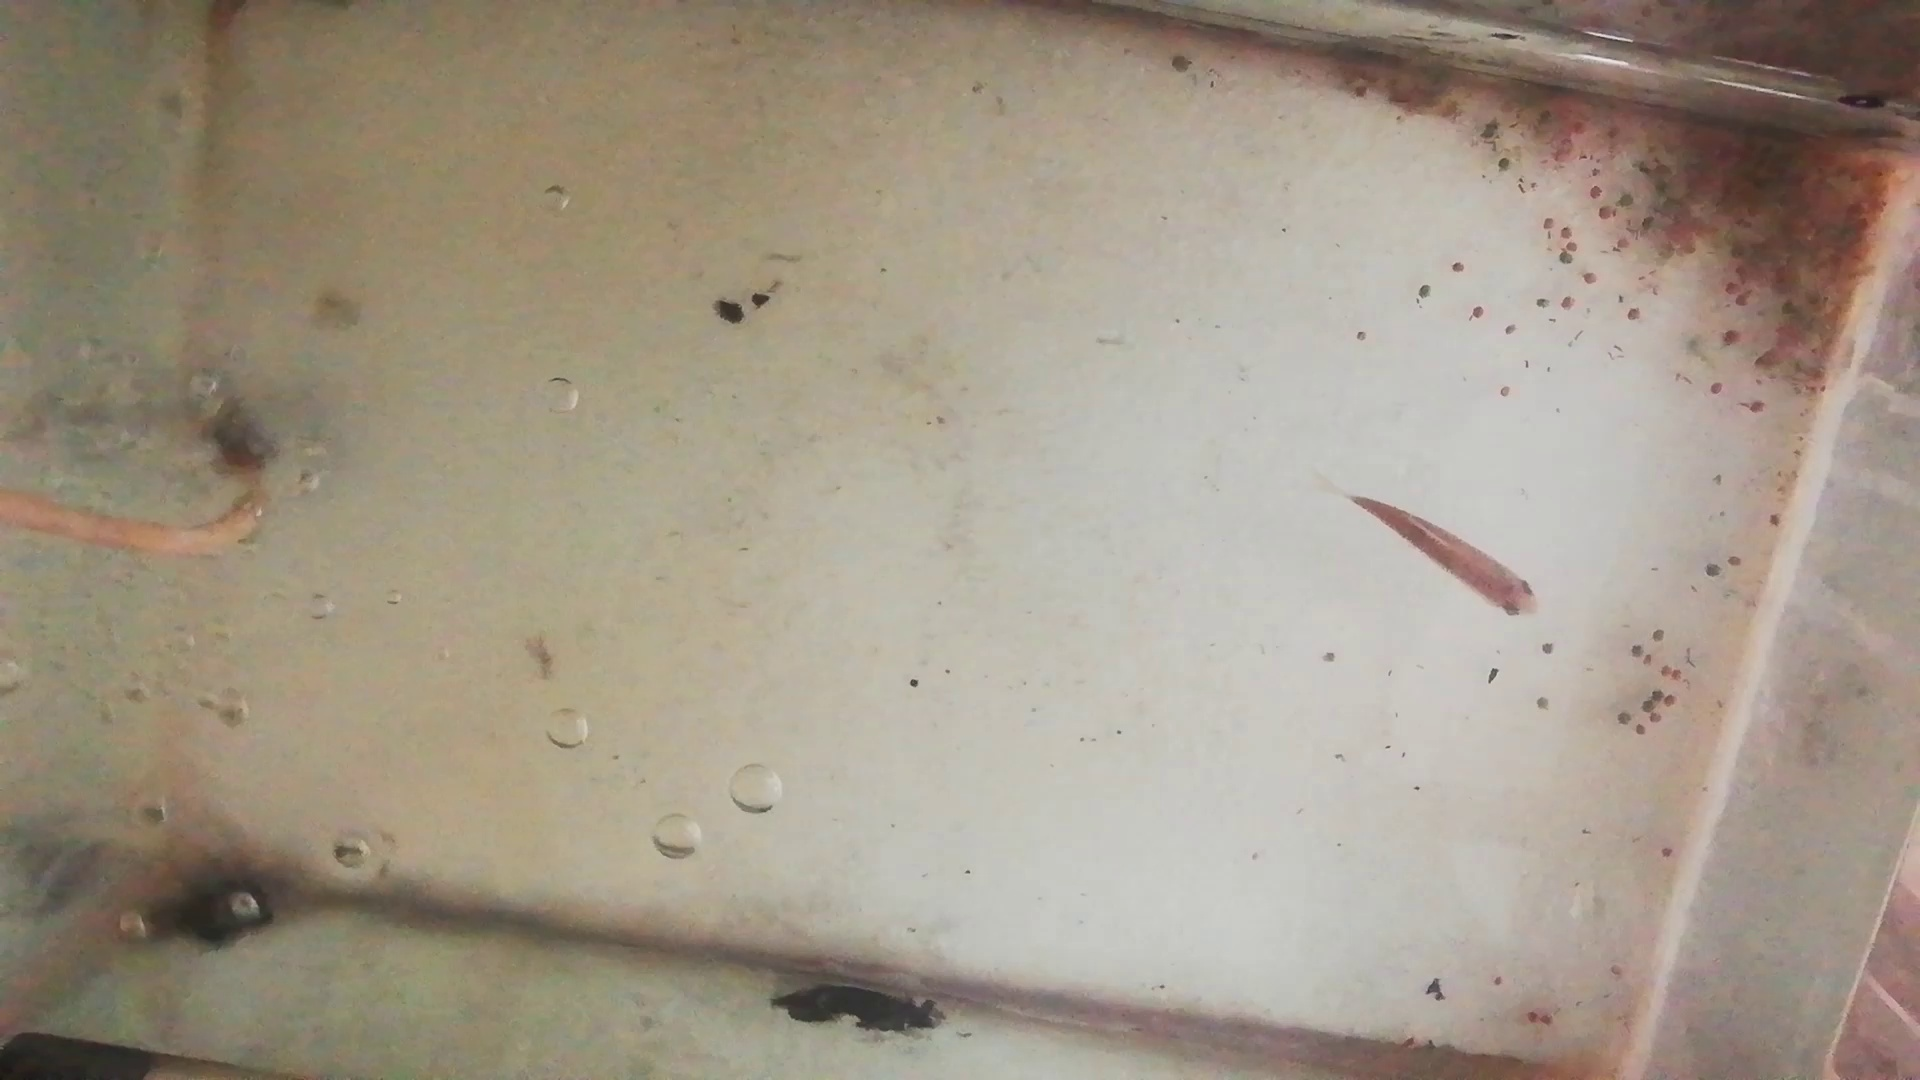fish: (1350, 493, 1539, 616)
